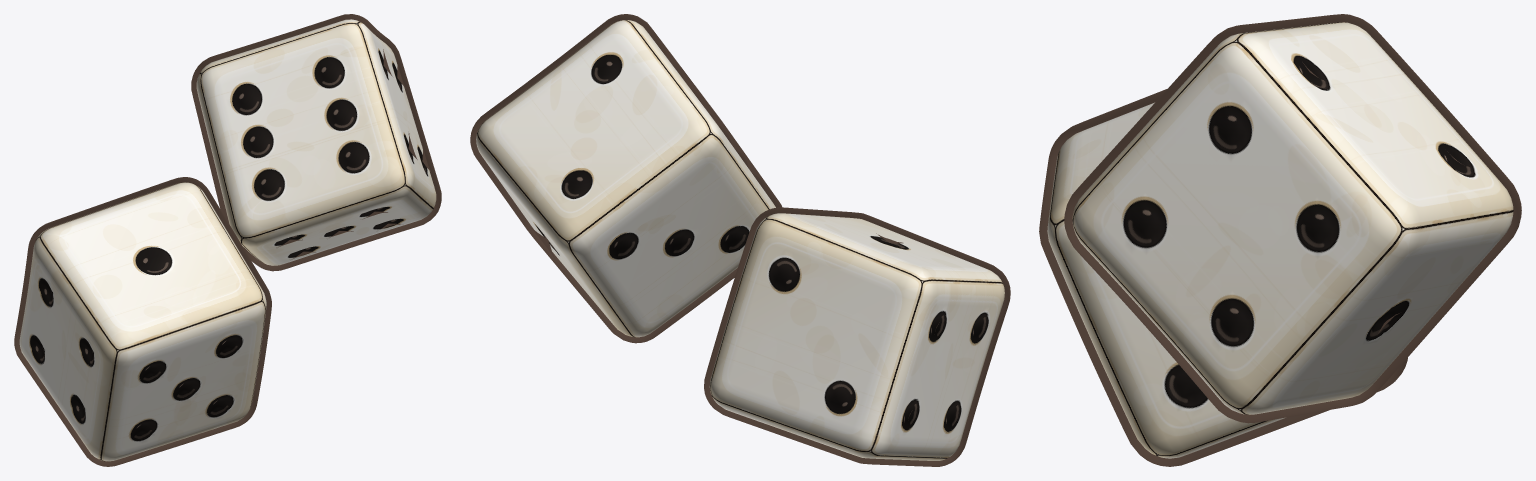
File: dados.glb
3 renders of one model, left to right at view 1: azimuth 30°, elevation 25°; view 2: azimuth 150°, elevation 25°; view 3: azimuth 270°, elevation 25°, orthographic. The views are drawn at different scales.
Parts seen in each view (by area): view 1: Dado_Izquierdo, Dado_Derecho; view 2: Dado_Izquierdo, Dado_Derecho; view 3: Dado_Derecho, Dado_Izquierdo.
Boxes of the visible parts, x1,y1,x2,y2 form: Dado_Izquierdo: (14,177,271,466); Dado_Derecho: (191,14,441,271); Dado_Izquierdo: (704,207,1010,466); Dado_Derecho: (470,14,781,343); Dado_Derecho: (1064,14,1521,423); Dado_Izquierdo: (1039,89,1407,466).
Bounding box in the file's own units: 3.72 × 3.27 × 2.56.
Materials: 2 (1 with a texture image).
